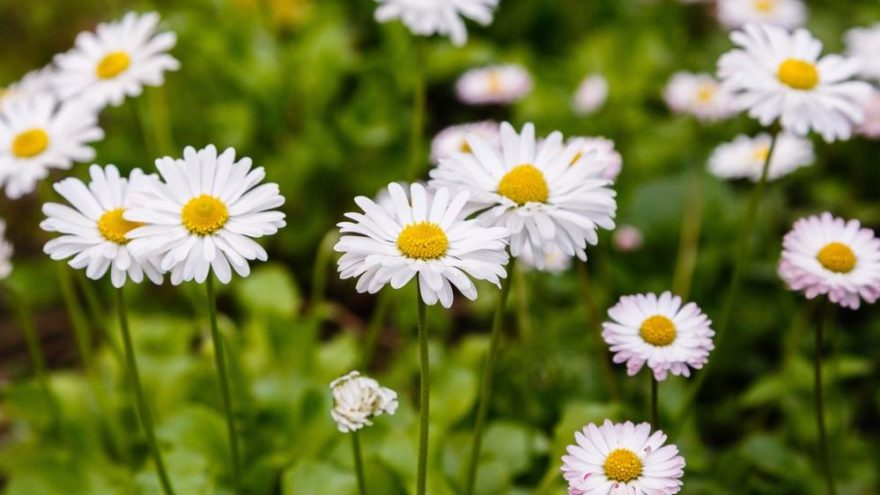papatya: (56, 149, 615, 310)
